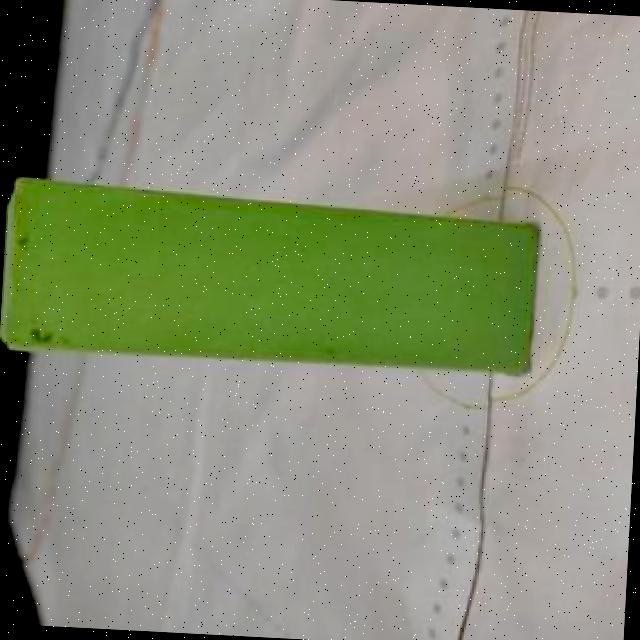greenbox: (0, 190, 542, 383)
